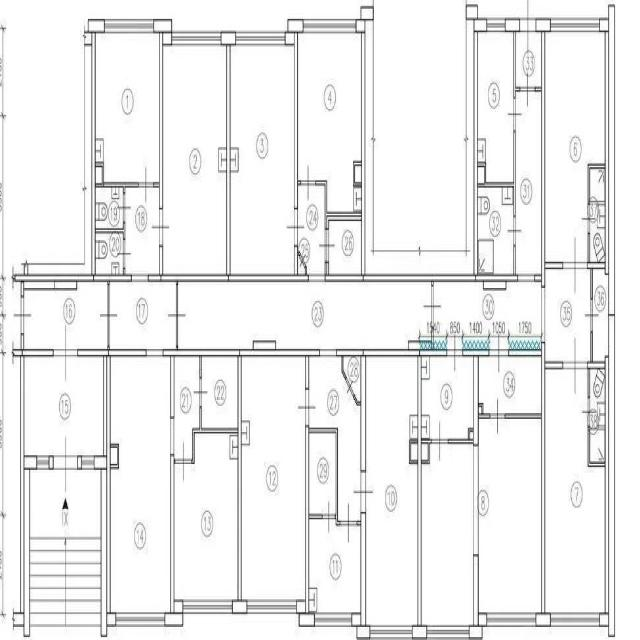Bathrooms: (479, 188, 513, 273), (590, 169, 605, 263), (590, 369, 605, 463), (96, 232, 123, 273), (96, 188, 123, 228)
Corridors: (365, 20, 473, 274), (179, 283, 431, 349), (309, 356, 361, 520), (25, 357, 103, 455), (434, 283, 541, 348), (24, 282, 107, 346), (516, 93, 541, 273), (31, 471, 100, 534), (110, 284, 175, 348), (422, 357, 473, 438), (546, 271, 590, 361), (479, 356, 541, 412), (127, 188, 158, 273), (174, 356, 199, 457), (202, 356, 237, 427), (298, 185, 325, 273), (310, 434, 335, 513), (330, 223, 361, 273), (593, 270, 609, 361), (516, 31, 541, 86), (344, 356, 361, 401), (298, 254, 305, 274)
Doors: (562, 233, 587, 295), (563, 332, 588, 394), (53, 437, 77, 495), (53, 324, 77, 382), (168, 284, 186, 348), (100, 284, 117, 347), (353, 470, 374, 513), (520, 1, 536, 57), (430, 419, 449, 464), (489, 332, 509, 374), (174, 439, 192, 484), (297, 389, 318, 427), (285, 208, 305, 246), (12, 297, 32, 335), (423, 287, 441, 329), (151, 208, 170, 247), (340, 503, 357, 545), (447, 332, 463, 372), (318, 228, 336, 263), (137, 166, 153, 205), (490, 398, 506, 435), (473, 445, 478, 556), (520, 71, 535, 108), (301, 164, 316, 201), (581, 204, 597, 236), (584, 298, 599, 332), (508, 98, 523, 131), (582, 394, 597, 427), (322, 500, 335, 537), (117, 239, 132, 268), (508, 215, 522, 246), (194, 377, 208, 408), (117, 193, 131, 223), (345, 376, 355, 398), (541, 287, 545, 342), (170, 417, 174, 455), (518, 274, 535, 282), (299, 251, 307, 268), (320, 349, 337, 356), (131, 275, 148, 282), (146, 349, 163, 355), (309, 275, 325, 281)
LBwalls: (608, 4, 615, 638), (13, 455, 37, 637), (94, 455, 116, 637), (469, 555, 487, 639), (360, 512, 366, 625), (361, 355, 366, 471), (473, 356, 479, 445), (24, 281, 77, 291), (165, 612, 183, 628), (154, 17, 172, 32), (288, 18, 304, 33), (88, 19, 105, 33), (221, 31, 236, 45), (505, 17, 520, 31), (412, 625, 427, 639), (299, 613, 314, 627), (232, 600, 247, 614), (253, 340, 276, 349), (483, 281, 506, 290), (408, 341, 432, 349), (474, 18, 487, 32), (361, 6, 374, 20), (536, 18, 550, 31), (536, 613, 550, 626), (357, 625, 370, 639), (466, 4, 478, 19), (599, 17, 609, 33), (296, 598, 305, 613), (599, 612, 608, 627), (284, 32, 294, 45), (356, 19, 365, 33), (352, 613, 361, 627), (174, 599, 183, 613), (83, 31, 91, 45), (163, 33, 172, 44), (49, 454, 54, 471), (77, 454, 82, 470)
Offices: (110, 356, 170, 613), (242, 358, 305, 599), (545, 369, 605, 613), (230, 46, 294, 274), (163, 45, 226, 273), (545, 32, 605, 261), (366, 356, 417, 625), (479, 418, 541, 612), (298, 33, 362, 212), (174, 435, 237, 599), (422, 444, 473, 625), (96, 33, 158, 181), (478, 32, 513, 181), (310, 520, 361, 612)
Stairs: (30, 535, 100, 635)
Walls: (315, 32, 518, 287), (163, 349, 320, 600), (148, 44, 309, 282), (336, 328, 447, 625), (77, 348, 146, 614), (505, 343, 563, 614), (11, 335, 53, 615), (91, 32, 139, 274), (534, 31, 564, 287), (305, 425, 340, 613), (587, 31, 609, 300), (588, 332, 609, 612), (11, 260, 132, 296), (153, 32, 163, 210), (294, 31, 301, 209), (588, 164, 605, 204), (170, 455, 174, 613), (513, 32, 520, 99), (448, 427, 473, 444), (478, 402, 490, 419), (463, 349, 489, 356), (353, 393, 360, 407), (356, 520, 361, 527)
Windows: (550, 613, 600, 627), (105, 19, 154, 33), (487, 612, 536, 626), (304, 20, 356, 33), (246, 600, 296, 613), (172, 32, 221, 45), (236, 32, 285, 45), (183, 601, 232, 614), (116, 613, 165, 626), (550, 18, 599, 31), (370, 625, 412, 639), (427, 626, 469, 639), (314, 613, 352, 626), (487, 17, 505, 31), (81, 456, 95, 470), (37, 456, 49, 470)
